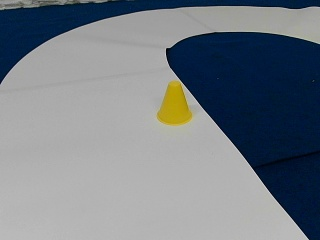cone: (158, 82, 191, 124)
